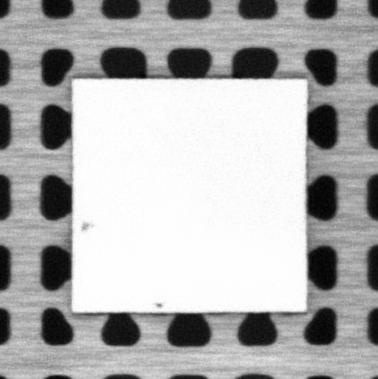DIE_INK: (79, 219, 95, 234), (154, 301, 164, 308)
